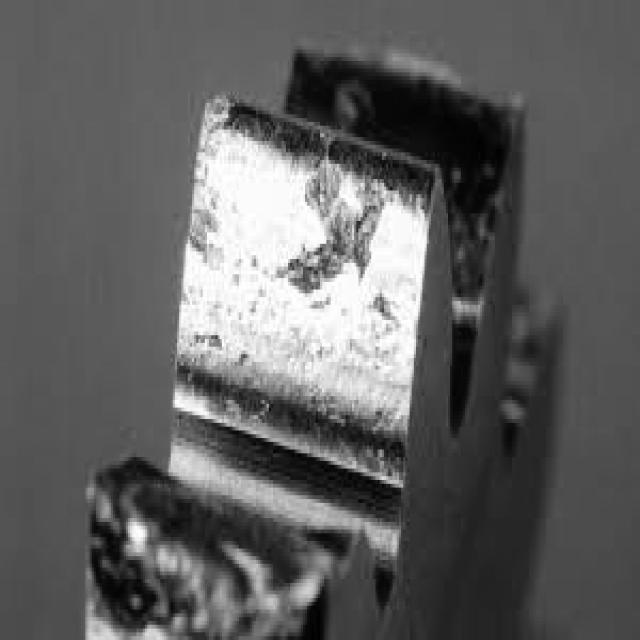Fault-Exist: (89, 57, 536, 626)
